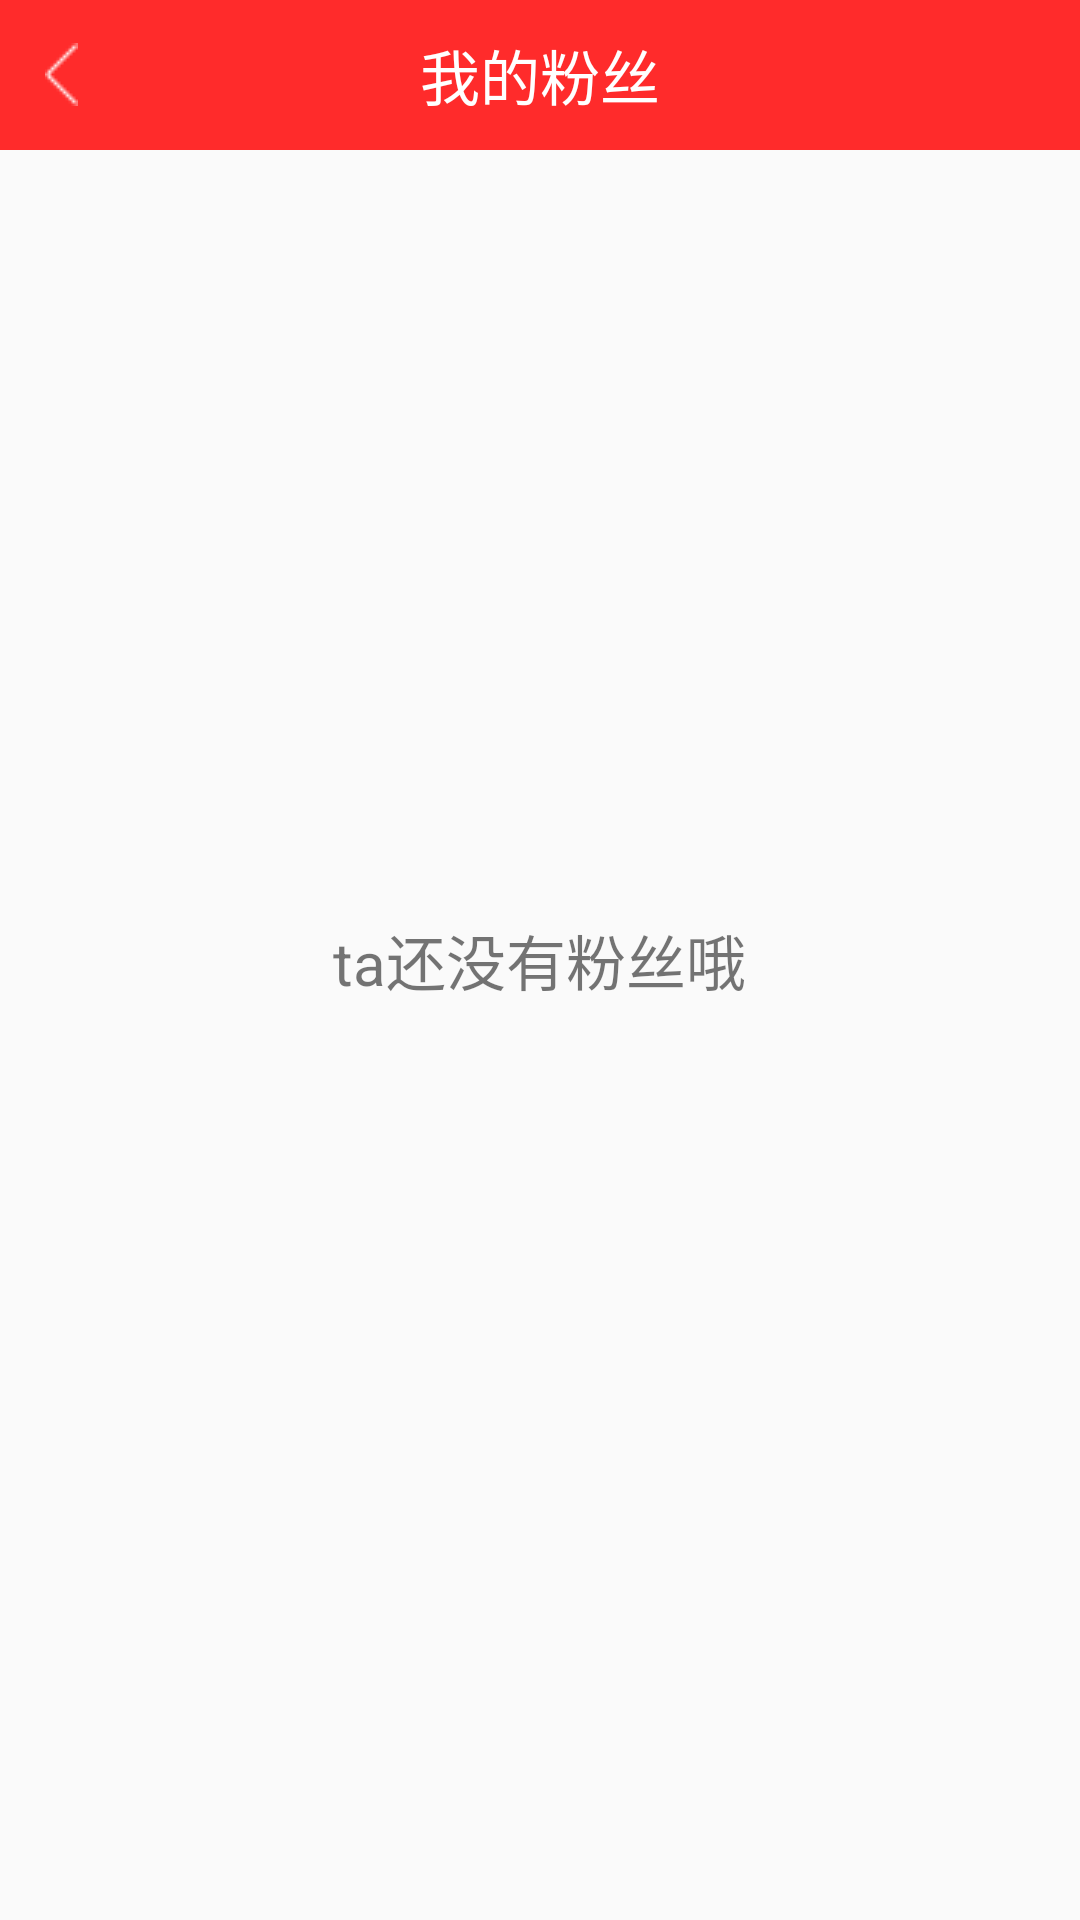

Point at icon controls on the screen. Image size 1080 × 1920, points as point (x, y).
fanhui: point (61, 74)
